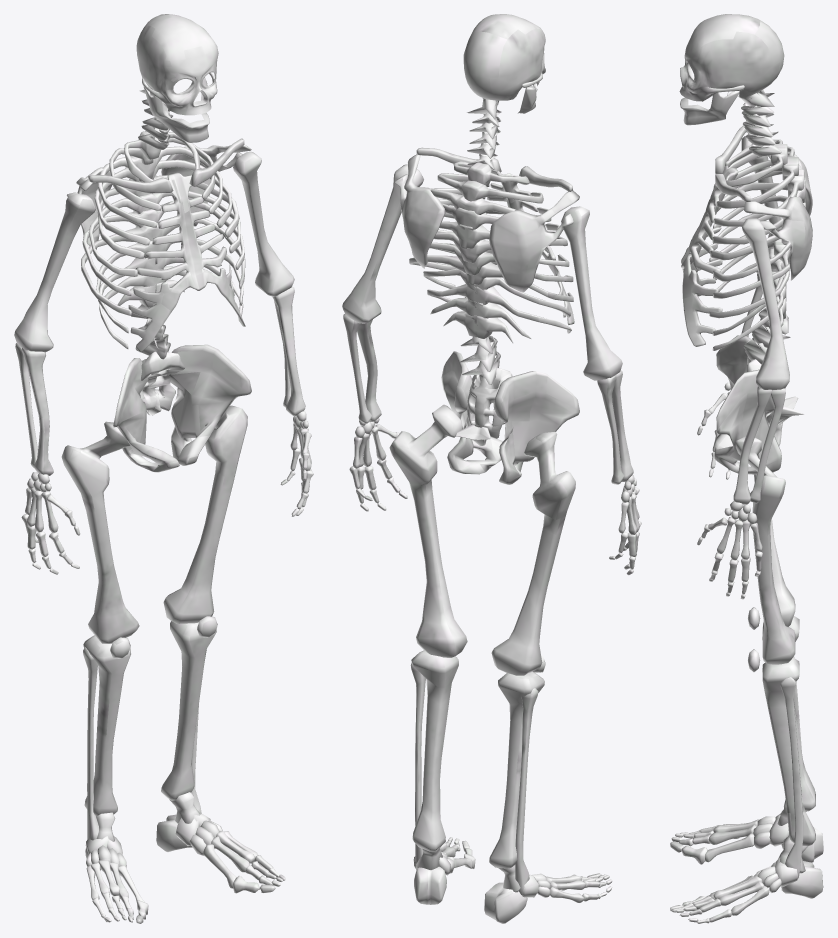
The model's file is bones.glb.
3 views of the same model, side by side, from view 1: azimuth 30°, elevation 25°; view 2: azimuth 150°, elevation 25°; view 3: azimuth 270°, elevation 25° (orthographic).
Parts seen in each view (by area): view 1: Bones(Clone); view 2: Bones(Clone); view 3: Bones(Clone).
Boxes of the visible parts, bbox=[...] form: Bones(Clone): bbox=[14, 14, 313, 923]; Bones(Clone): bbox=[342, 14, 641, 923]; Bones(Clone): bbox=[670, 14, 823, 923].
Bounding box in the file's own units: 0.6394 × 1.9 × 0.3039.
Materials: 1 (1 with a texture image).
